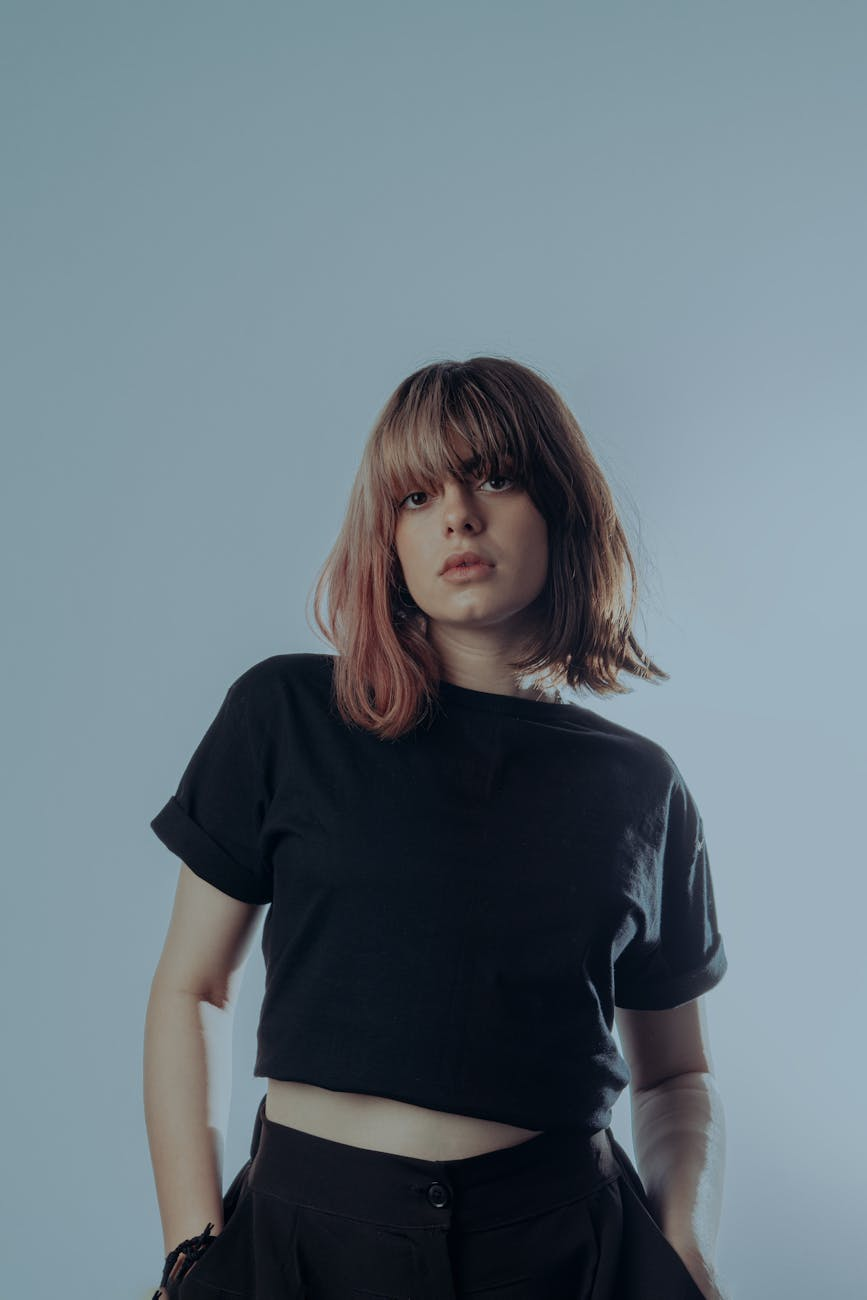crop_top: (216, 671, 630, 1128)
